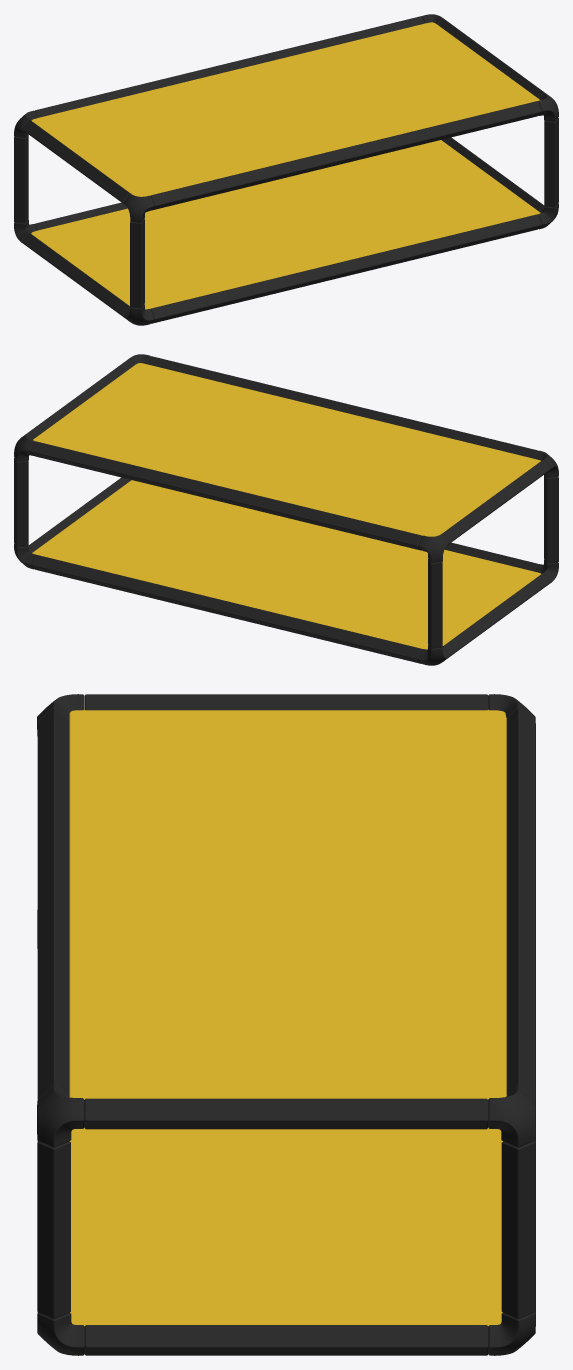
3 views of the same model, one above another, from view 1: azimuth 30°, elevation 25°; view 2: azimuth 150°, elevation 25°; view 3: azimuth 270°, elevation 25° (orthographic). The views are drawn at different scales.
Parts seen in each view (by area): view 1: 729x329x154; view 2: 729x329x154; view 3: 729x329x154.
Part boxes in pixels (box(x1,y1,x2,y2)): 729x329x154: box(14, 14, 558, 325); 729x329x154: box(14, 354, 558, 665); 729x329x154: box(37, 694, 535, 1355).
Bounding box in the file's own units: 0.8067 × 0.2316 × 0.4063.
